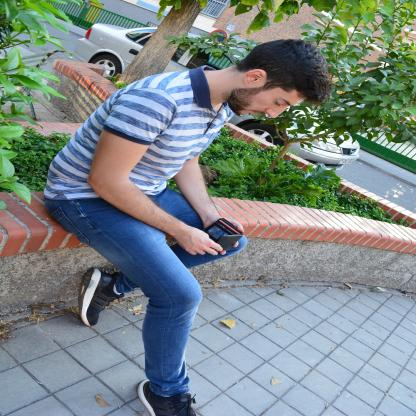monedero: (202, 218, 243, 250)
